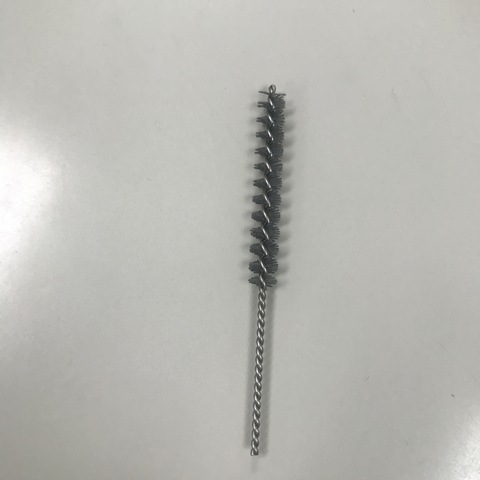Twist Brush-A: (234, 74, 288, 456)
